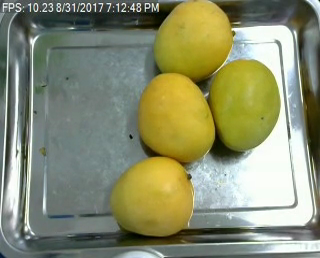Mango: (104, 157, 200, 240), (137, 67, 217, 161), (208, 58, 283, 151), (150, 0, 230, 84)
